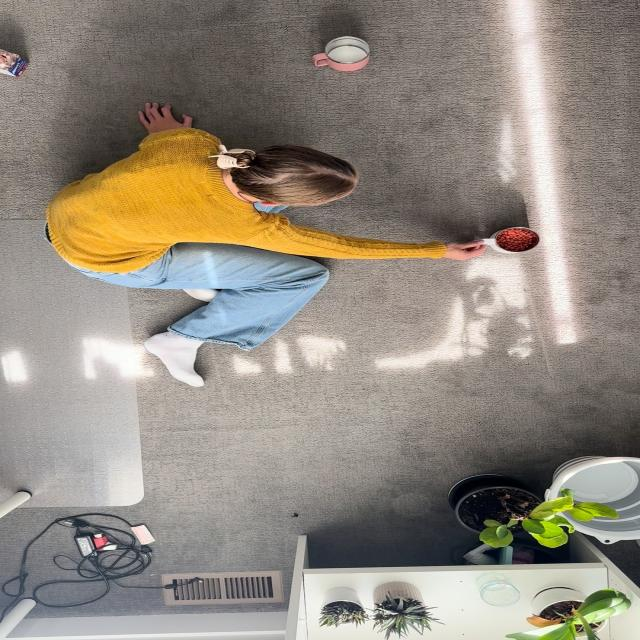IBC: (312, 36, 370, 72), (484, 227, 539, 253)
